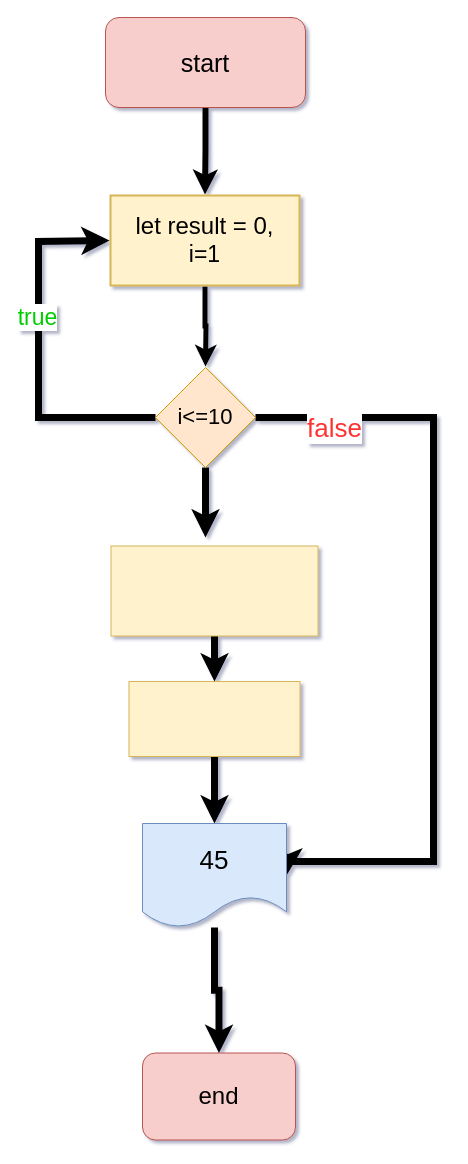
Image size: 468x1164. Some labels were removed from this diagram. Each missing label, with the centre of its shape:
i++: the point at 214,718
let result += i: the point at 214,590
